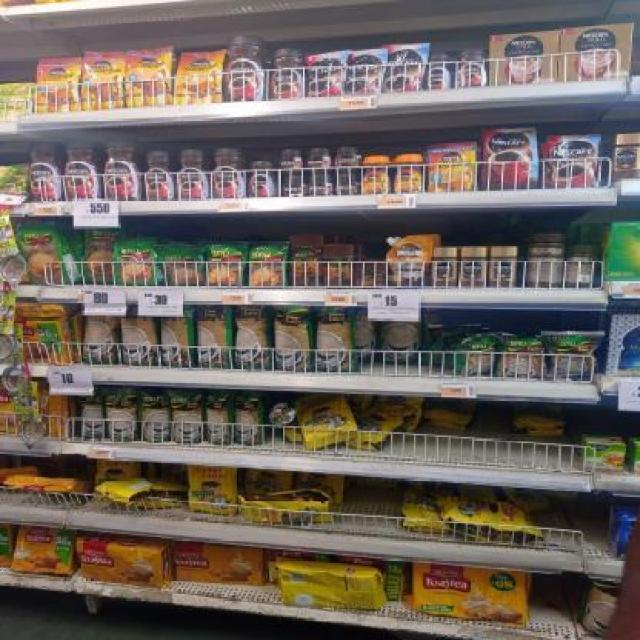Coffee: (486, 129, 538, 188), (544, 136, 595, 187), (175, 52, 222, 104), (225, 36, 263, 100), (103, 137, 141, 200), (126, 51, 170, 105), (80, 54, 122, 110), (37, 59, 81, 112), (63, 138, 100, 200), (429, 145, 475, 189), (30, 142, 62, 201), (306, 52, 346, 98), (386, 45, 424, 91), (347, 49, 385, 95), (145, 151, 177, 201), (177, 148, 208, 198), (212, 149, 244, 197), (272, 49, 303, 97), (456, 50, 487, 89), (393, 156, 424, 193), (614, 134, 640, 178), (361, 156, 389, 193), (432, 248, 458, 287), (423, 55, 451, 91), (489, 248, 515, 286), (249, 160, 273, 197), (462, 248, 484, 286), (306, 148, 332, 169), (280, 149, 303, 170), (283, 175, 306, 196), (309, 174, 331, 195), (335, 174, 356, 195), (335, 148, 357, 167)
